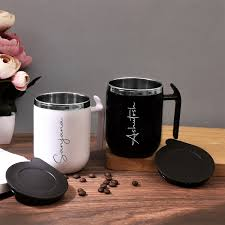mug: (23, 67, 122, 178), (104, 64, 194, 170)
